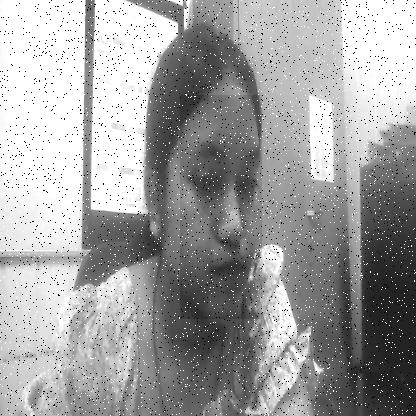Distracted: (180, 95, 262, 319)
